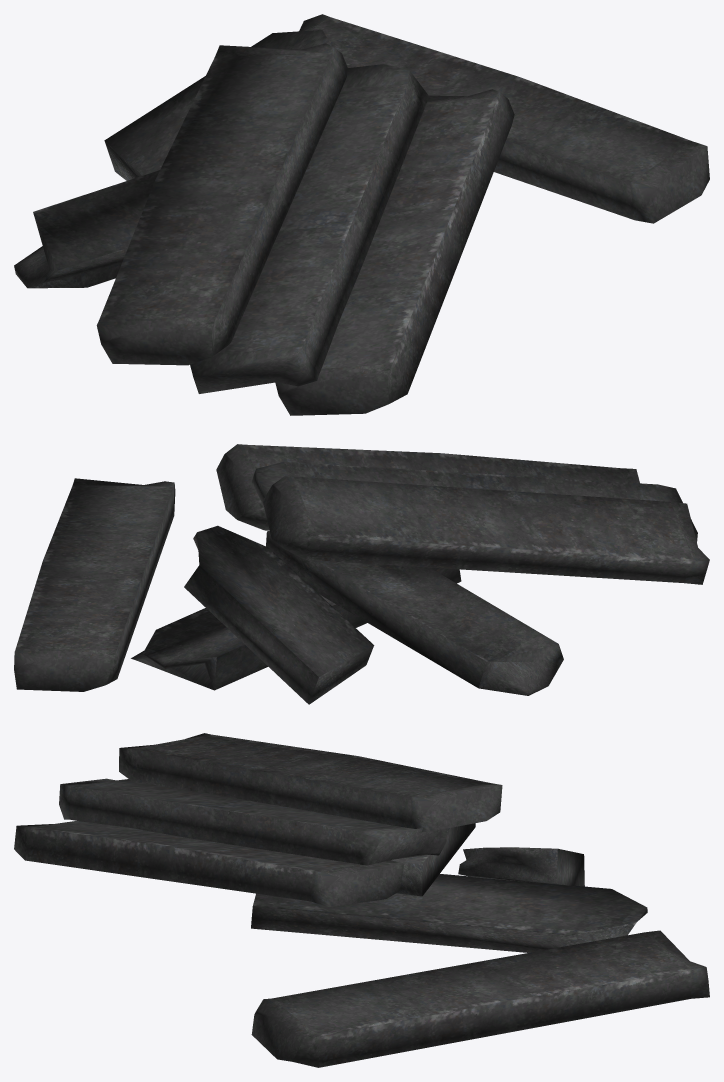
File: broken_stairs_part01.dae
The picture shows the model from 3 angles, top to bottom: view 1: azimuth 30°, elevation 25°; view 2: azimuth 150°, elevation 25°; view 3: azimuth 270°, elevation 25°; orthographic projection. The views are drawn at different scales.
Parts seen in each view (by area): view 1: polySurface744; view 2: polySurface744; view 3: polySurface744.
Part boxes in pixels (x1,y1,x2,y2): polySurface744: (14,14,709,415); polySurface744: (14,444,709,704); polySurface744: (14,733,709,1067).
Size of the model in its own units: 4.86 by 1.19 by 5.02.
